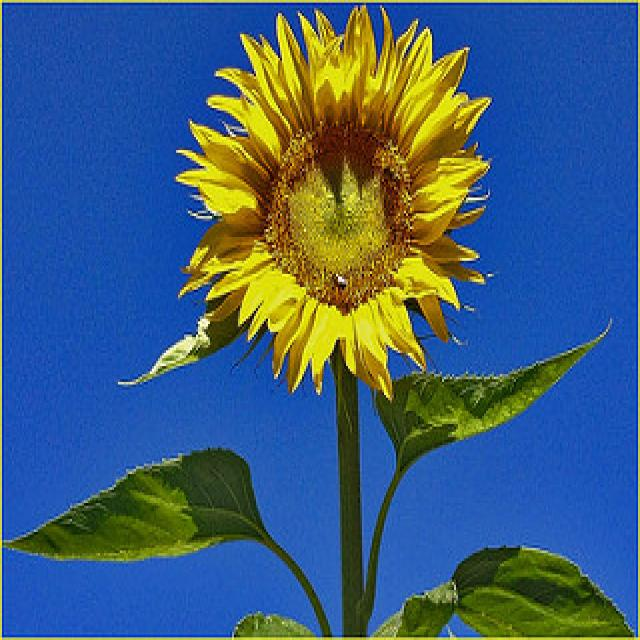sunflower: (173, 7, 497, 404)
